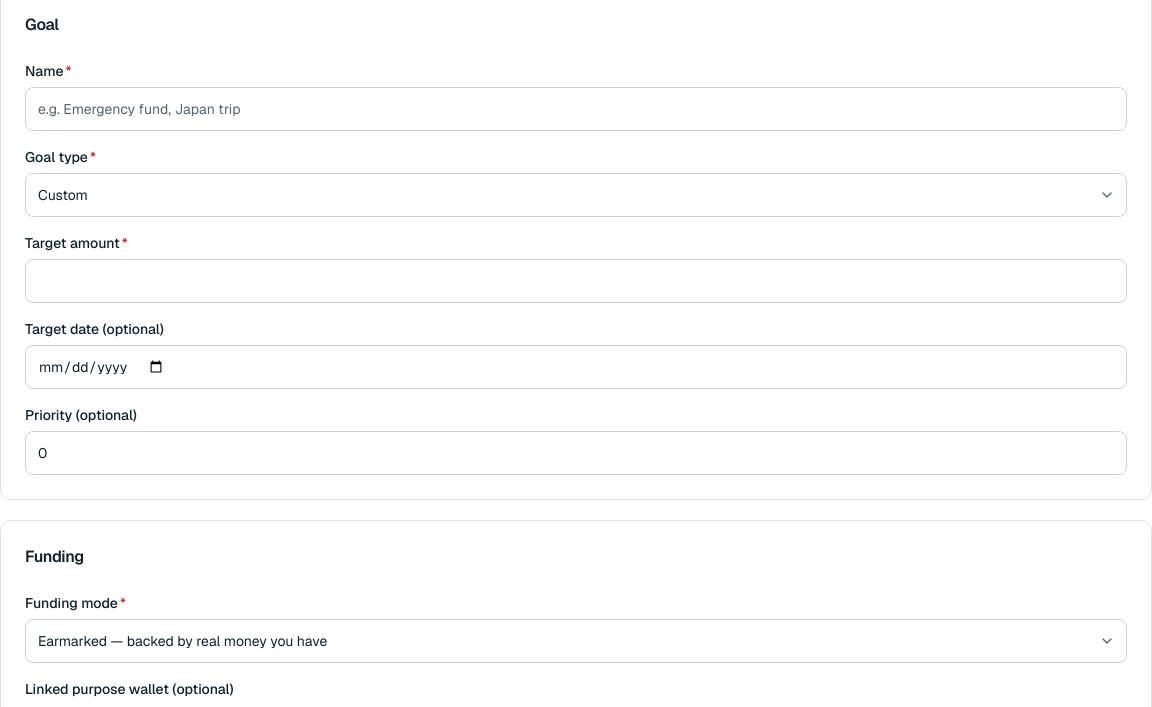
Test: GoalForm › shows emergency-fund target-method fields once that goal type is chosen
Select "Emergency fund" in the dropdown labelled "Goal type" at coordinates (576, 195), box [25,173,1127,217]
(page scrolled)
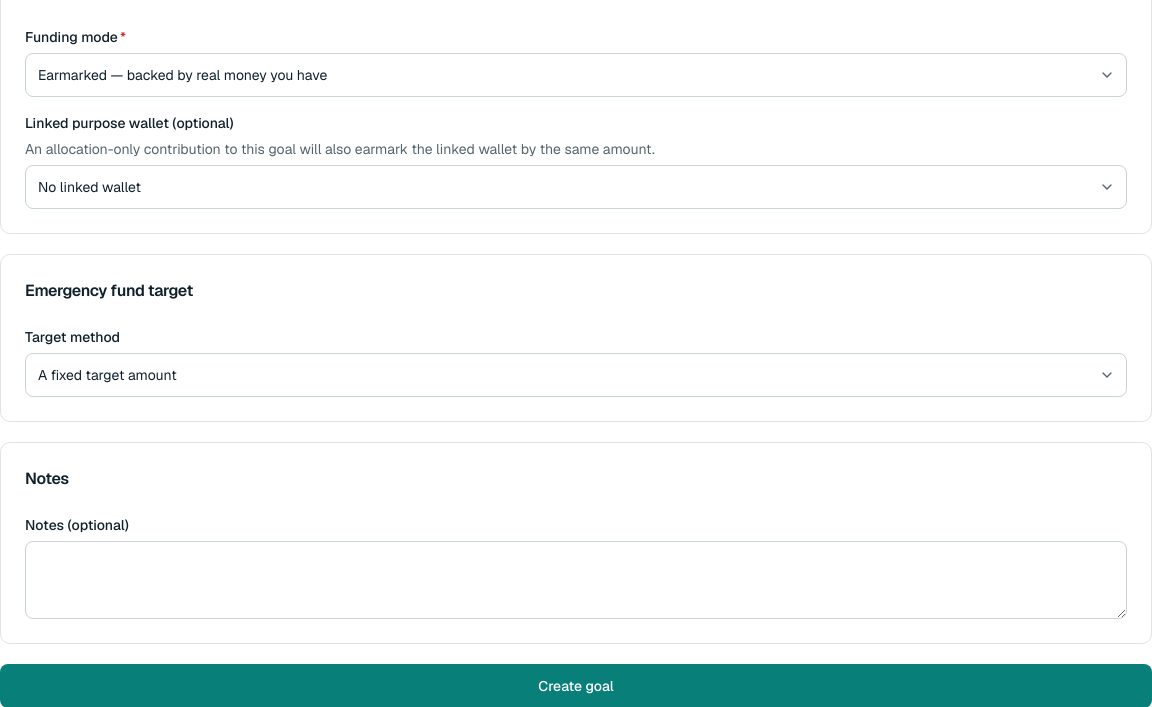
Result: the dropdown labelled "Target method" is shown at [25,353,1127,397]
